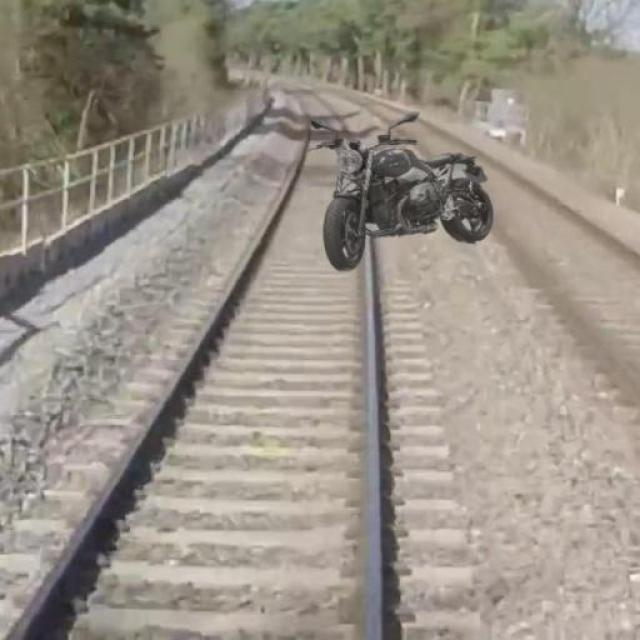vehicle: (301, 109, 511, 278)
